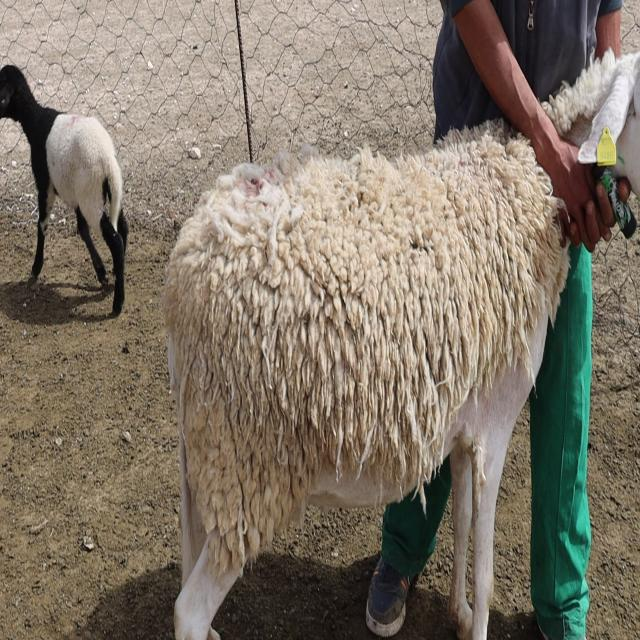Score_4: (163, 126, 569, 639)
